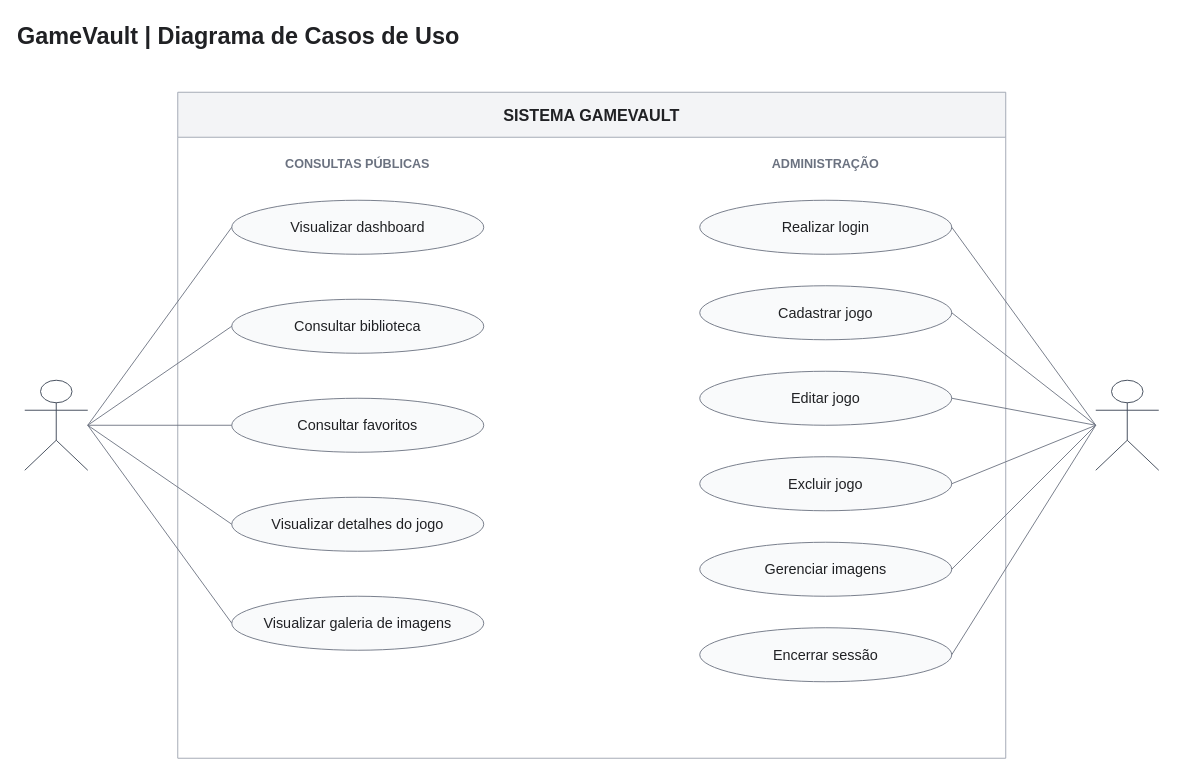
This 1190x774 diagram has some shape labels left out. Here are the shapes that lost their labels. From the top down, the centre of each, then its label:
At point (56, 424): "Visitante".
At point (1127, 424): "Administrador".
